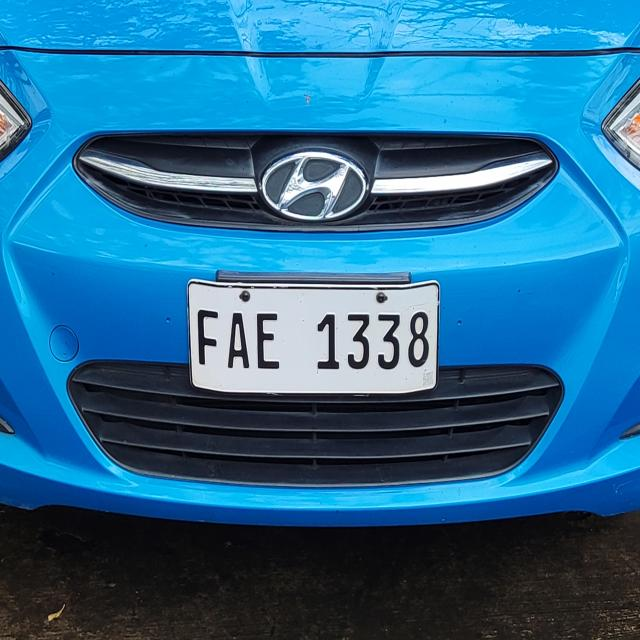plate: (185, 277, 442, 398)
